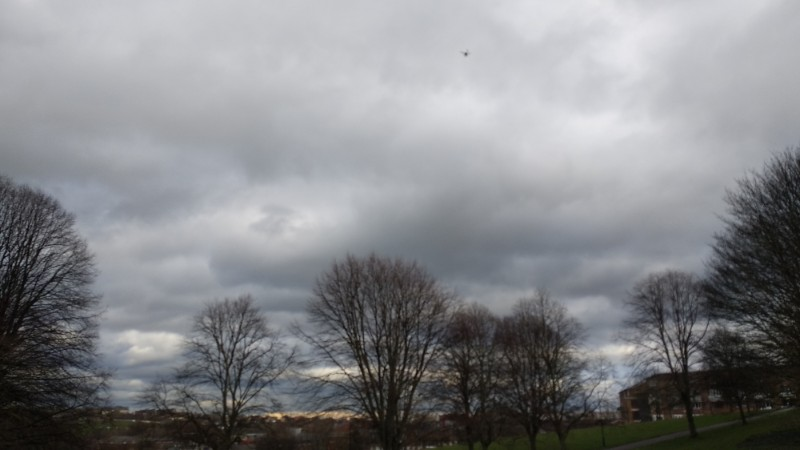drone: (461, 50, 470, 58)
